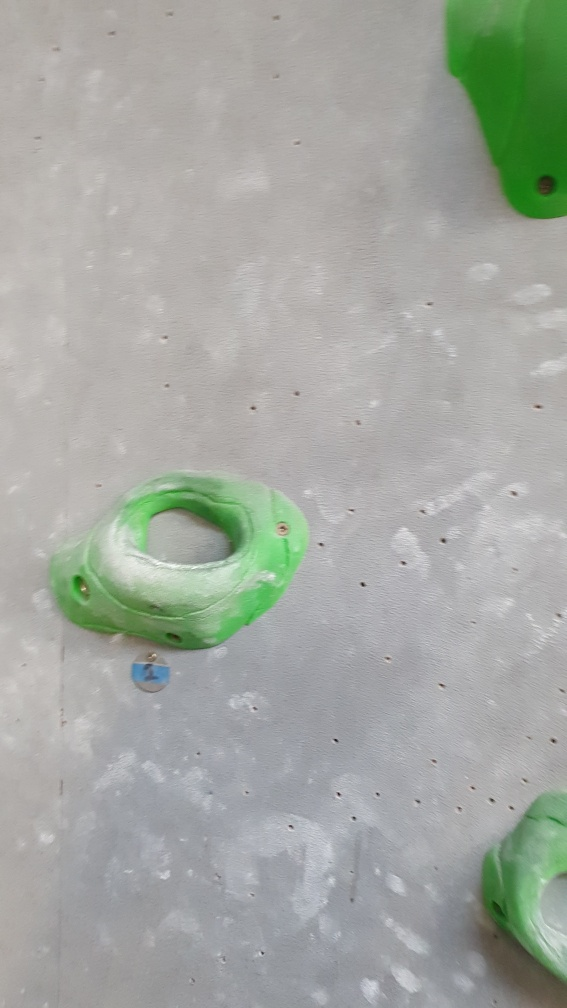Hand Start: (129, 647, 176, 701)
Pocket: (49, 459, 310, 649), (470, 785, 567, 992)
